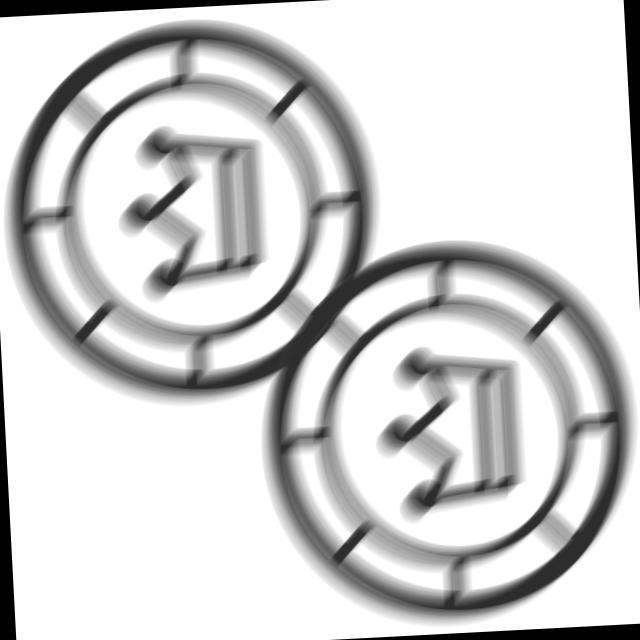coin: (244, 228, 640, 640), (1, 5, 389, 420)
